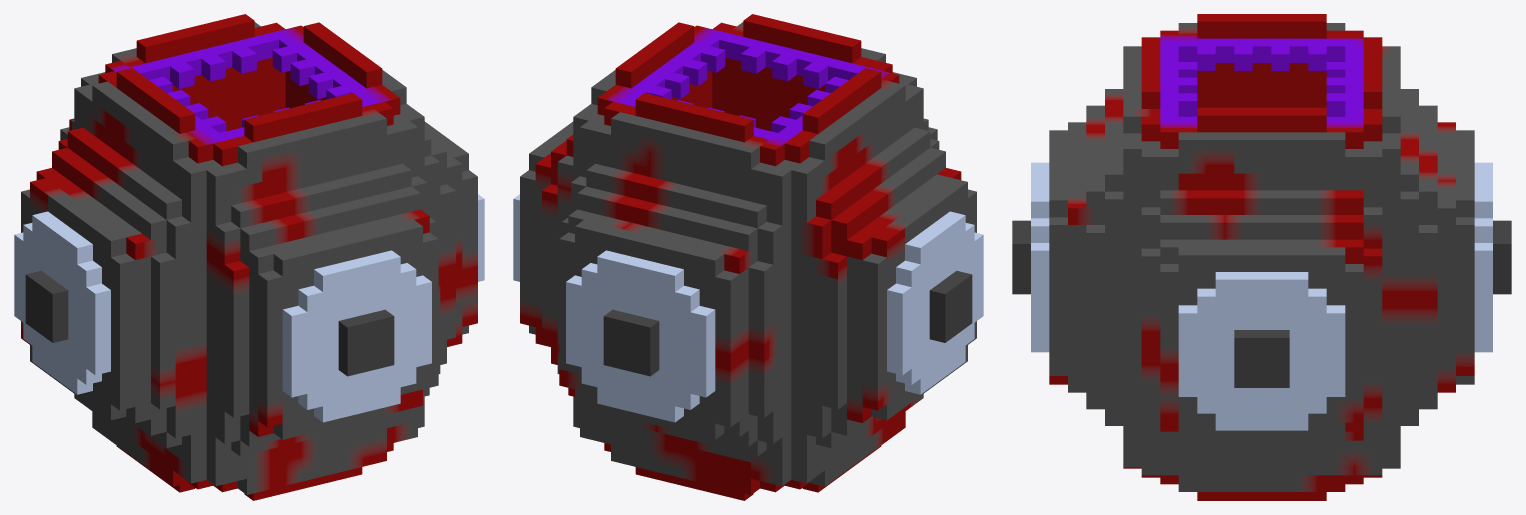
Rendered from monster_timelimit.dae.
3 renders of one model, left to right at view 1: azimuth 30°, elevation 25°; view 2: azimuth 150°, elevation 25°; view 3: azimuth 270°, elevation 25°, orthographic. The views are drawn at different scales.
Visible parts, largest first — view 1: monster_timelimit; view 2: monster_timelimit; view 3: monster_timelimit.
Boxes of the visible parts, x1=… form: monster_timelimit: x1=14, y1=14, x2=484, y2=500; monster_timelimit: x1=513, y1=14, x2=983, y2=500; monster_timelimit: x1=1012, y1=14, x2=1511, y2=500.
Bounding box in the file's own units: 27 × 23 × 27.
